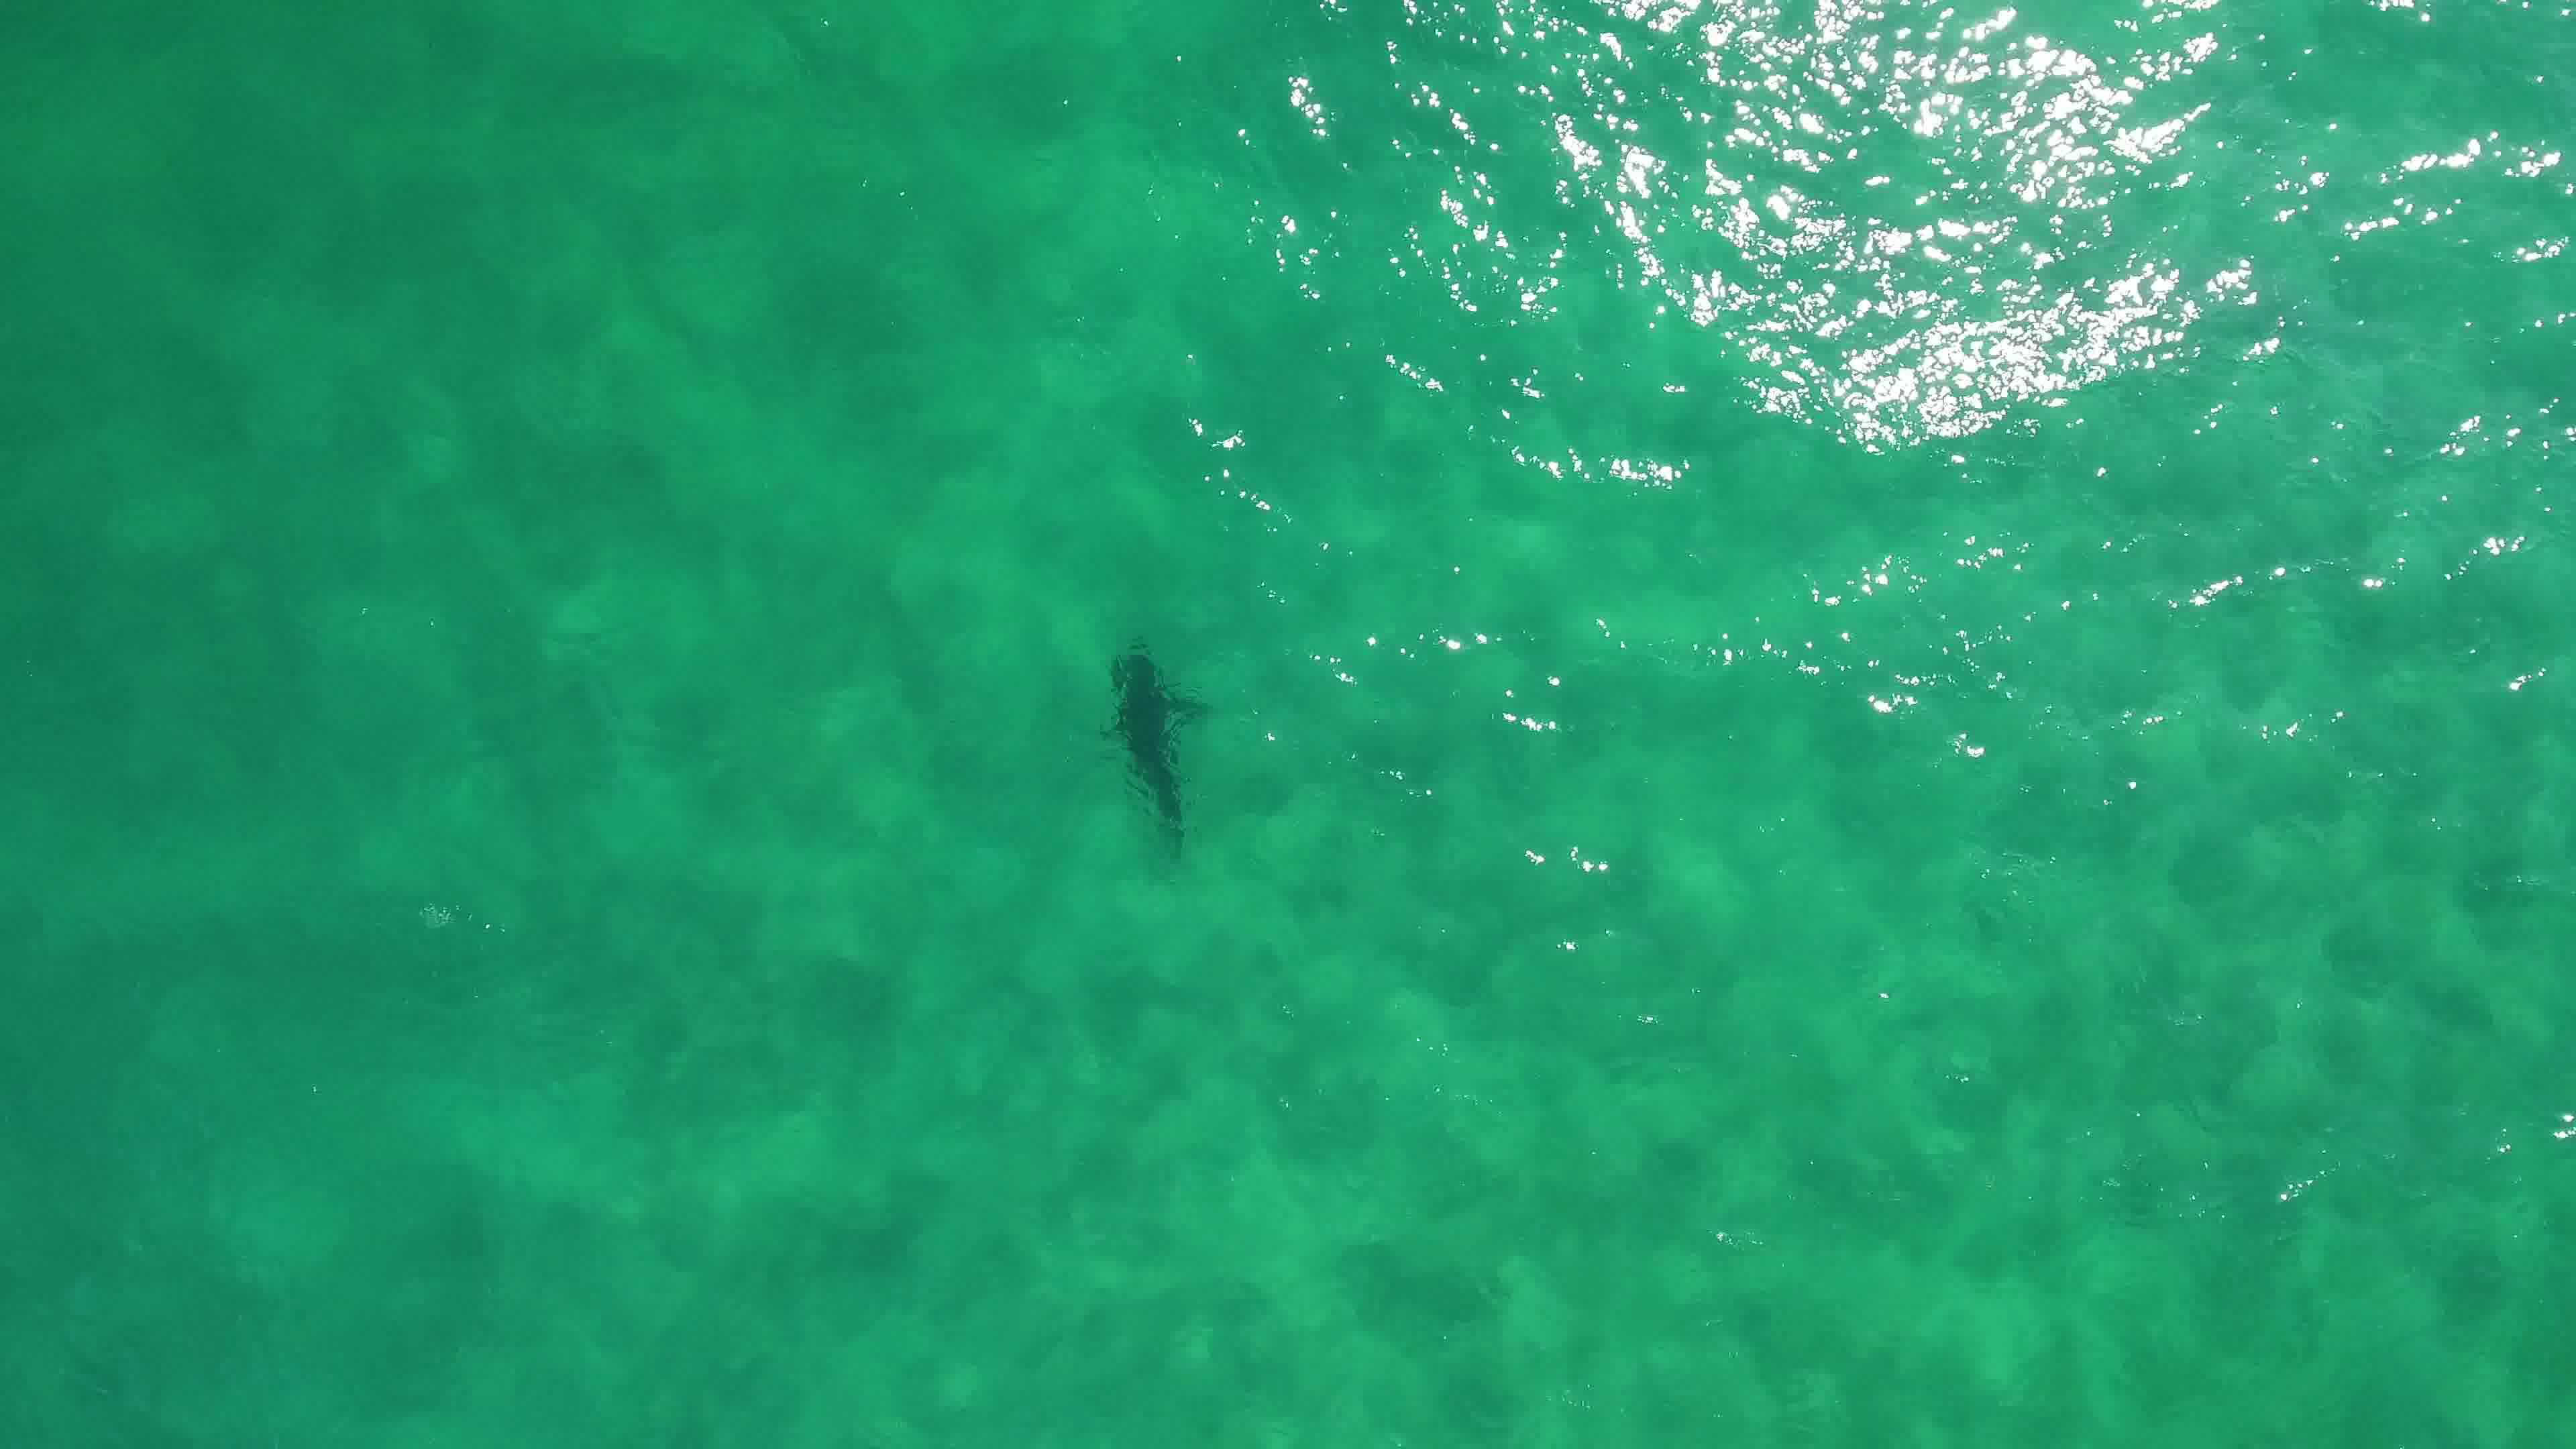shark: (1092, 648, 1221, 860)
